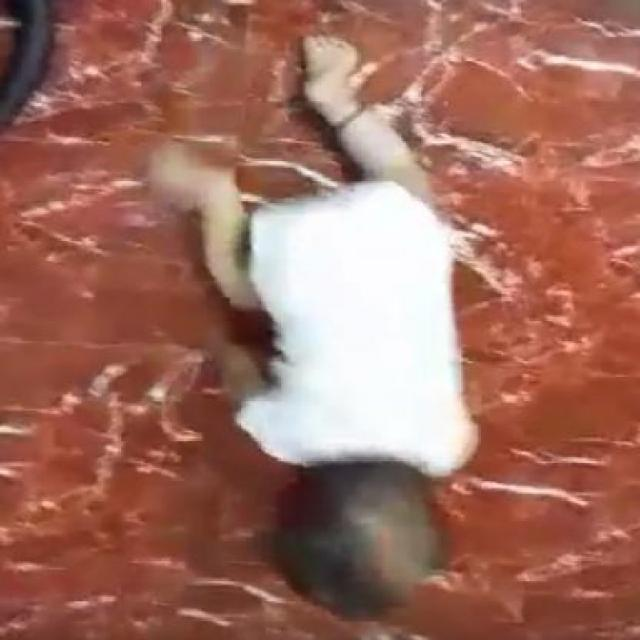child: (179, 39, 479, 623)
